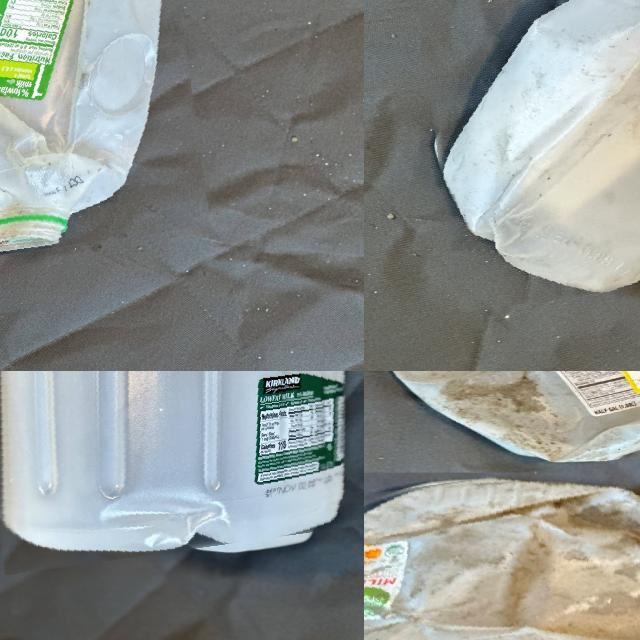milk-jug: (0, 371, 364, 561), (420, 0, 640, 297), (0, 0, 198, 256), (364, 463, 640, 640), (364, 371, 640, 462)
